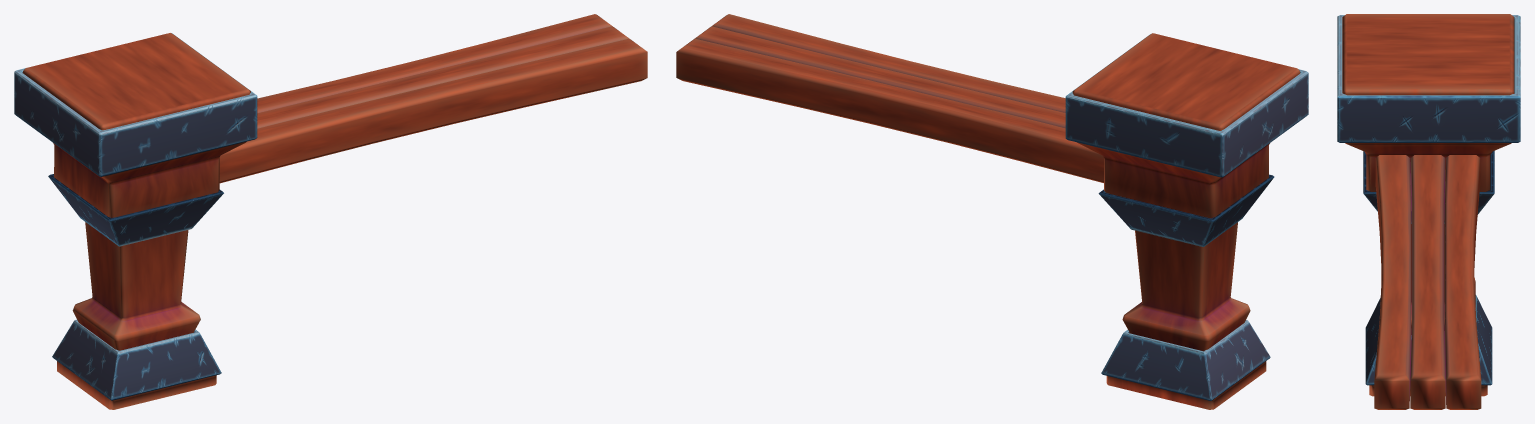
Rendered from barrel_columne_2.fbx.
3 views of the same model, side by side, from view 1: azimuth 30°, elevation 25°; view 2: azimuth 150°, elevation 25°; view 3: azimuth 270°, elevation 25° (orthographic). The views are drawn at different scales.
Parts seen in each view (by area): view 1: l_leg.022, l_leg.023, Cube.019, Cube.020, Cube.021; view 2: l_leg.022, l_leg.023, Cube.019, Cube.020, Cube.021; view 3: l_leg.023, l_leg.022, Cube.019, Cube.020, Cube.021.
Part boxes in pixels (x1,y1,x2,y2): l_leg.022: (22, 33, 250, 409); l_leg.023: (219, 14, 647, 183); Cube.019: (14, 33, 257, 176); Cube.020: (52, 319, 221, 400); Cube.021: (48, 174, 223, 246); l_leg.022: (1072, 33, 1300, 409); l_leg.023: (676, 14, 1103, 182); Cube.019: (1065, 33, 1308, 177); Cube.020: (1101, 320, 1270, 400); Cube.021: (1098, 174, 1274, 246); l_leg.023: (1374, 155, 1481, 409); l_leg.022: (1342, 14, 1514, 396); Cube.019: (1337, 15, 1520, 142); Cube.020: (1365, 295, 1492, 385); Cube.021: (1363, 151, 1494, 223).
Bounding box in the file's own units: 2057 × 1038 × 543.
